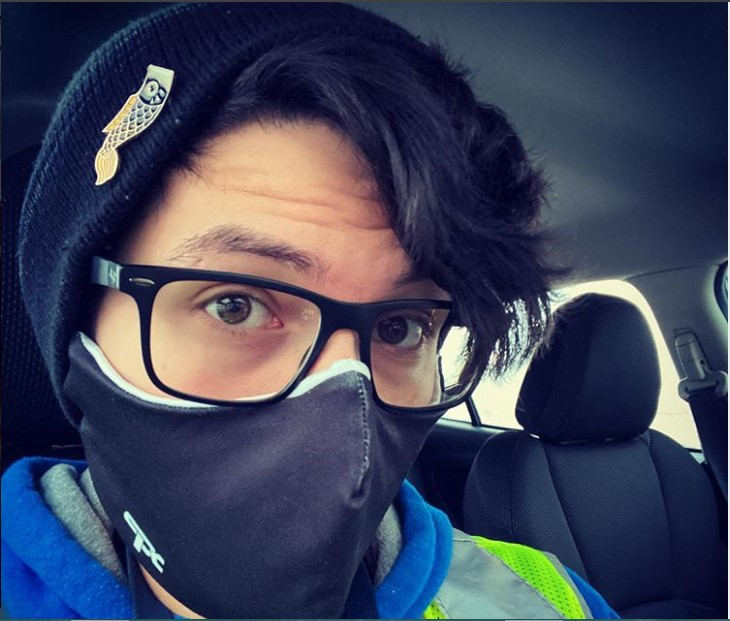face_with_mask: (13, 8, 520, 617)
